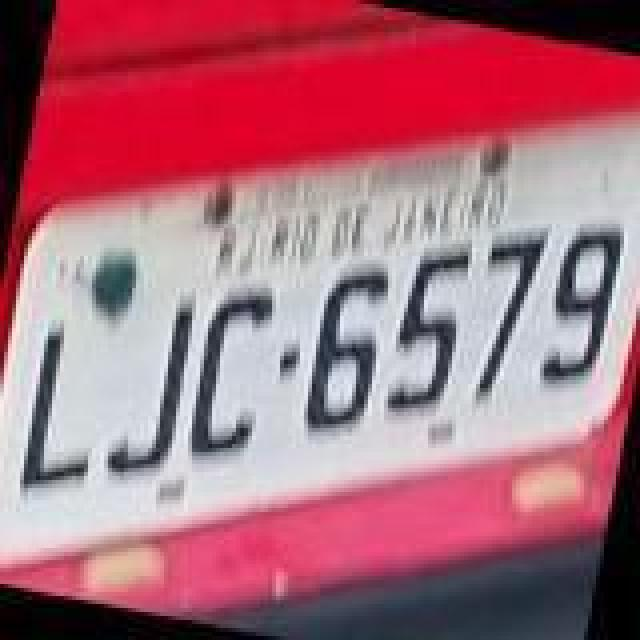5: (380, 240, 476, 424)
6: (294, 256, 394, 440)
7: (458, 216, 550, 408)
9: (534, 218, 626, 390)
C: (180, 284, 284, 468)
J: (102, 282, 202, 486)
L: (12, 324, 116, 500)
